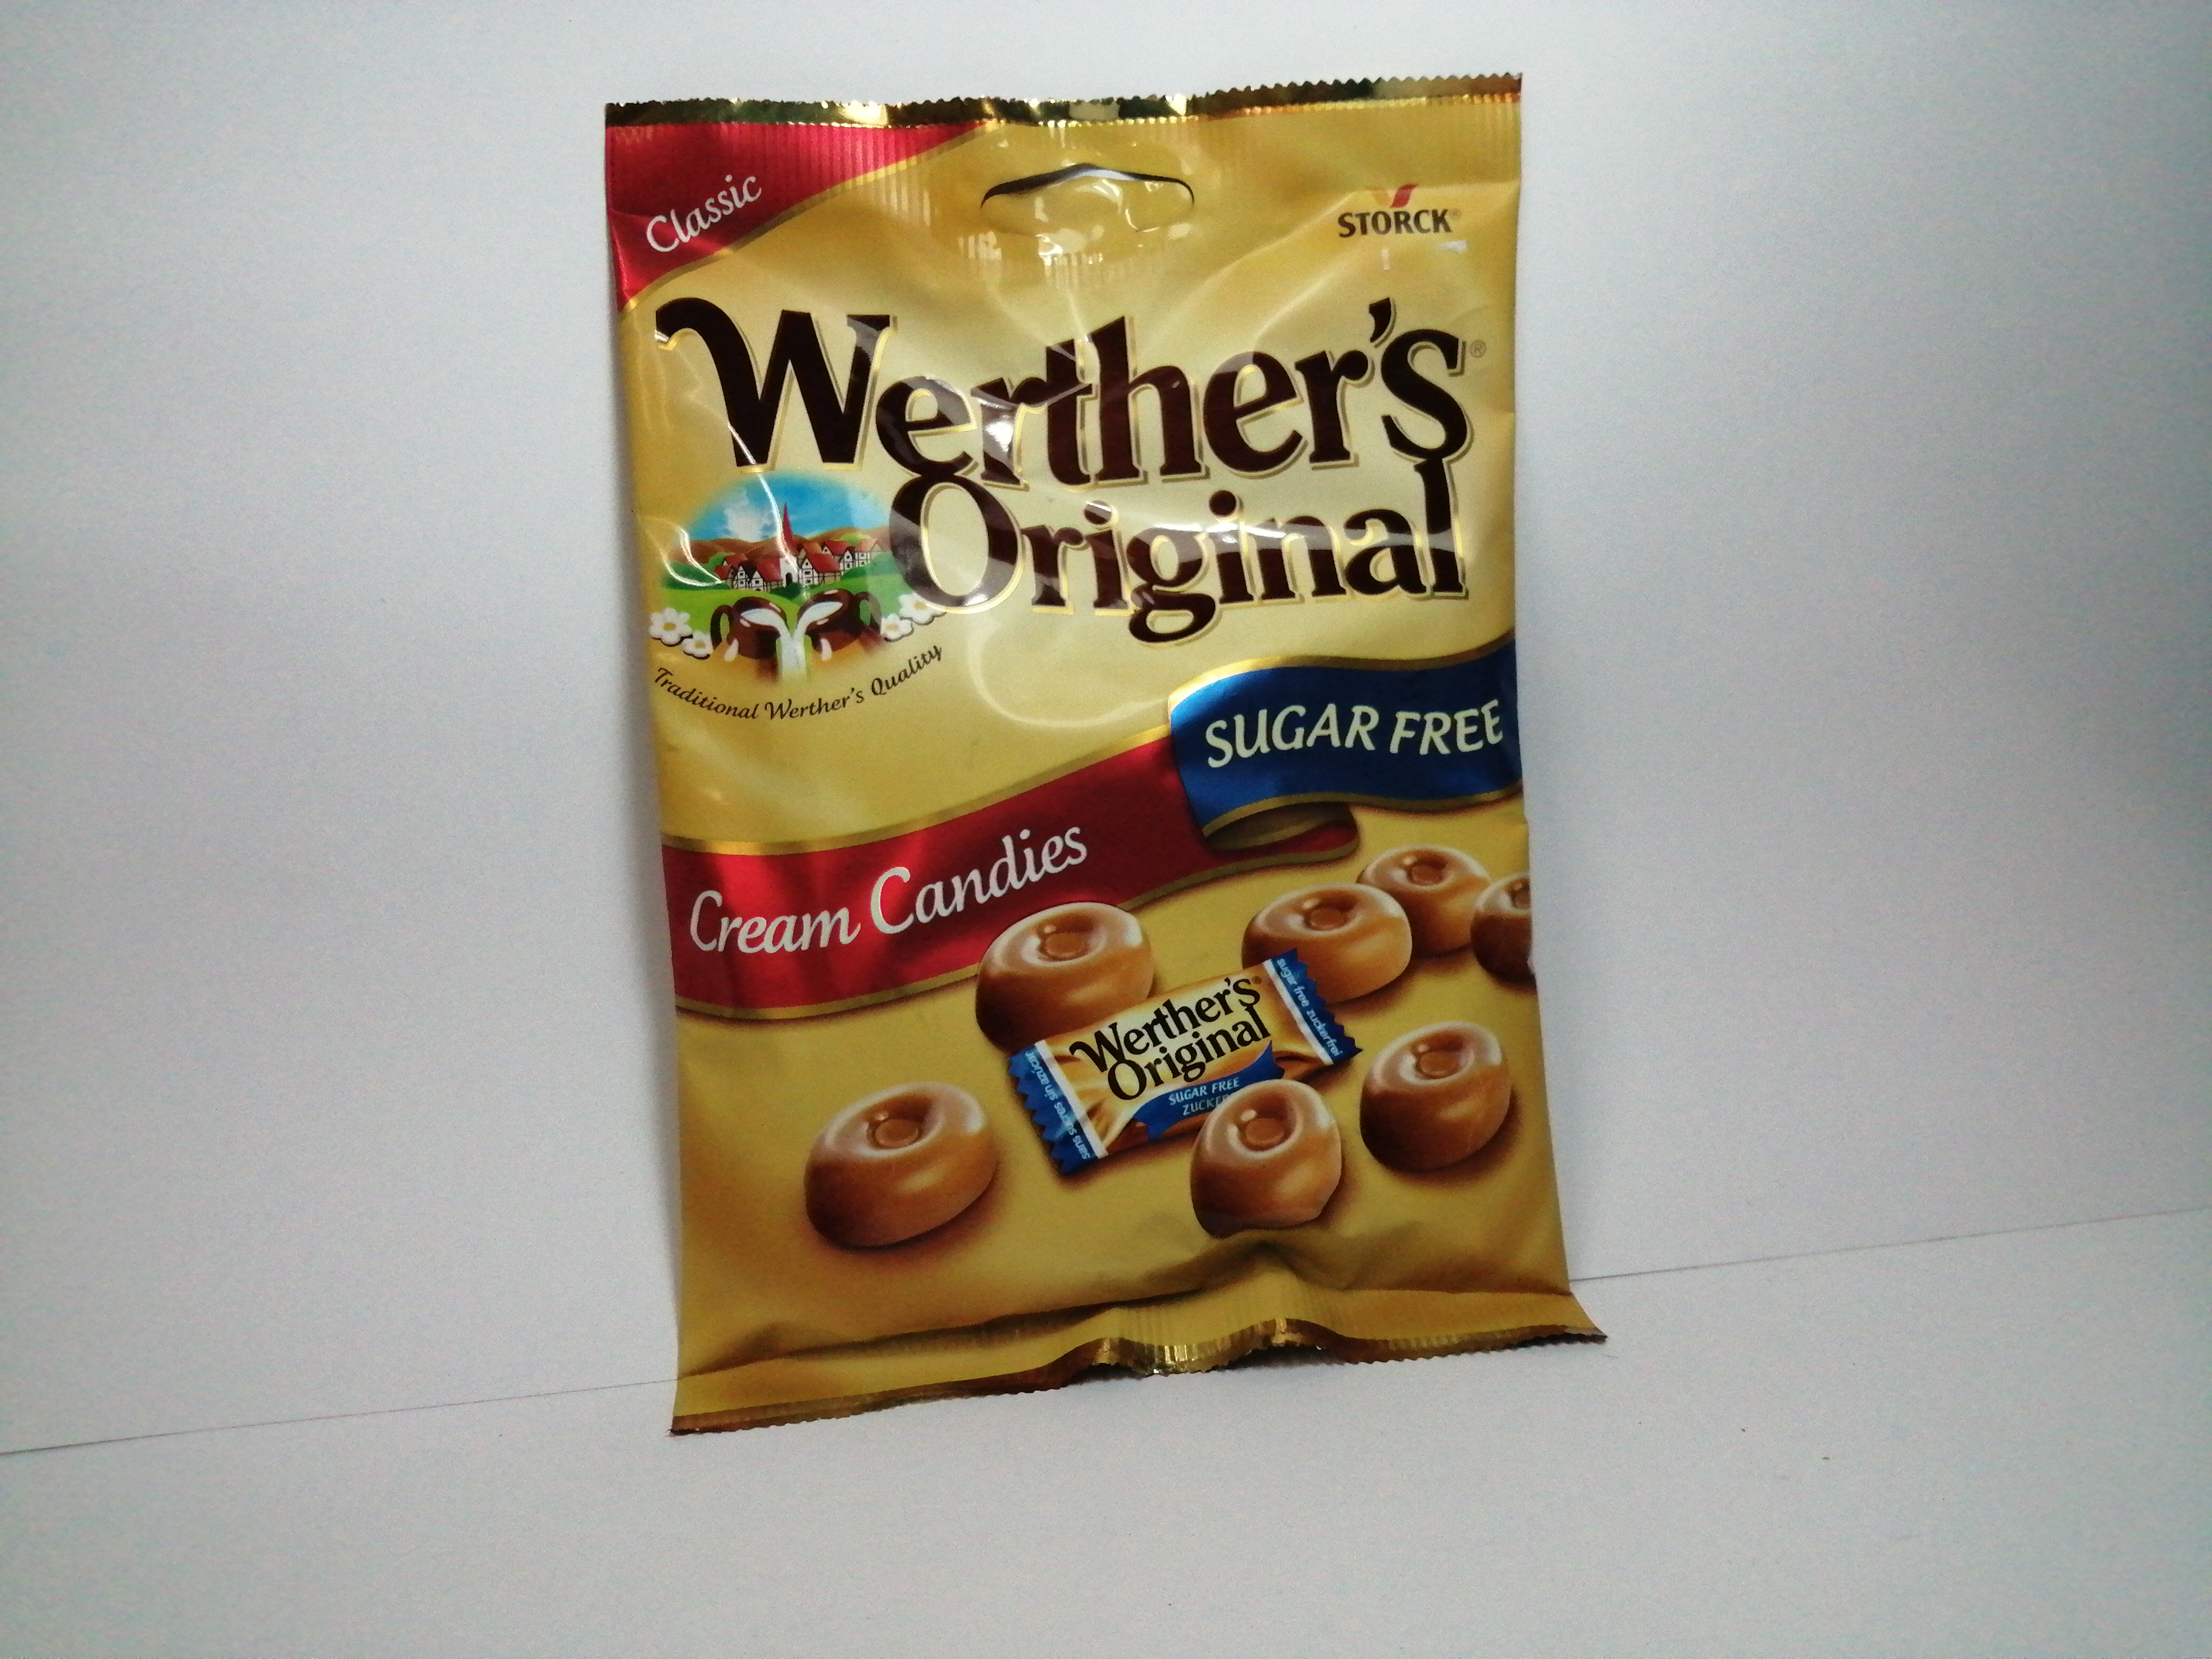dulces: (603, 71, 1613, 1446)
